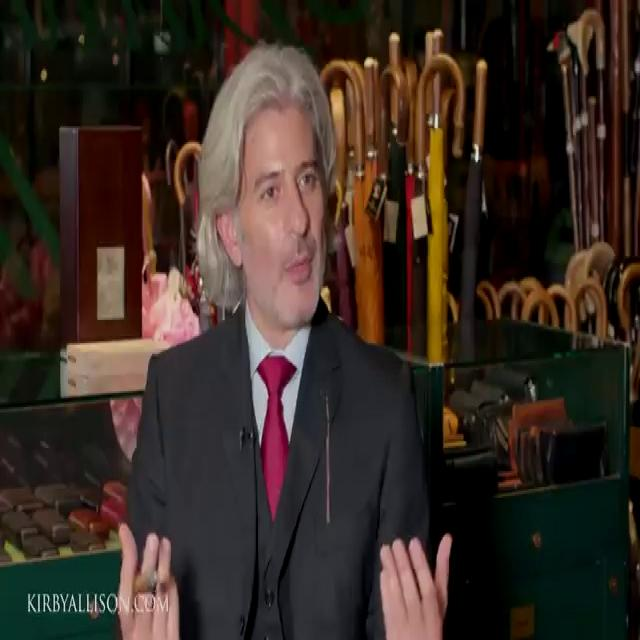Smooking: (124, 547, 165, 593)
